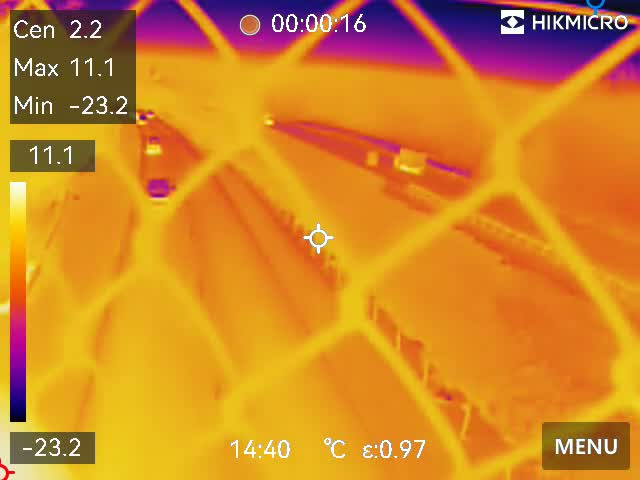vehicle: (144, 173, 173, 206), (142, 129, 166, 161)
